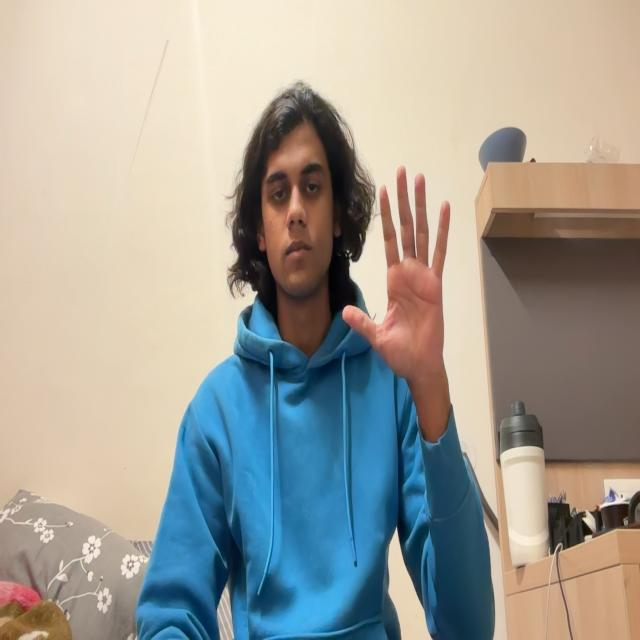Hello: (338, 169, 468, 376)
